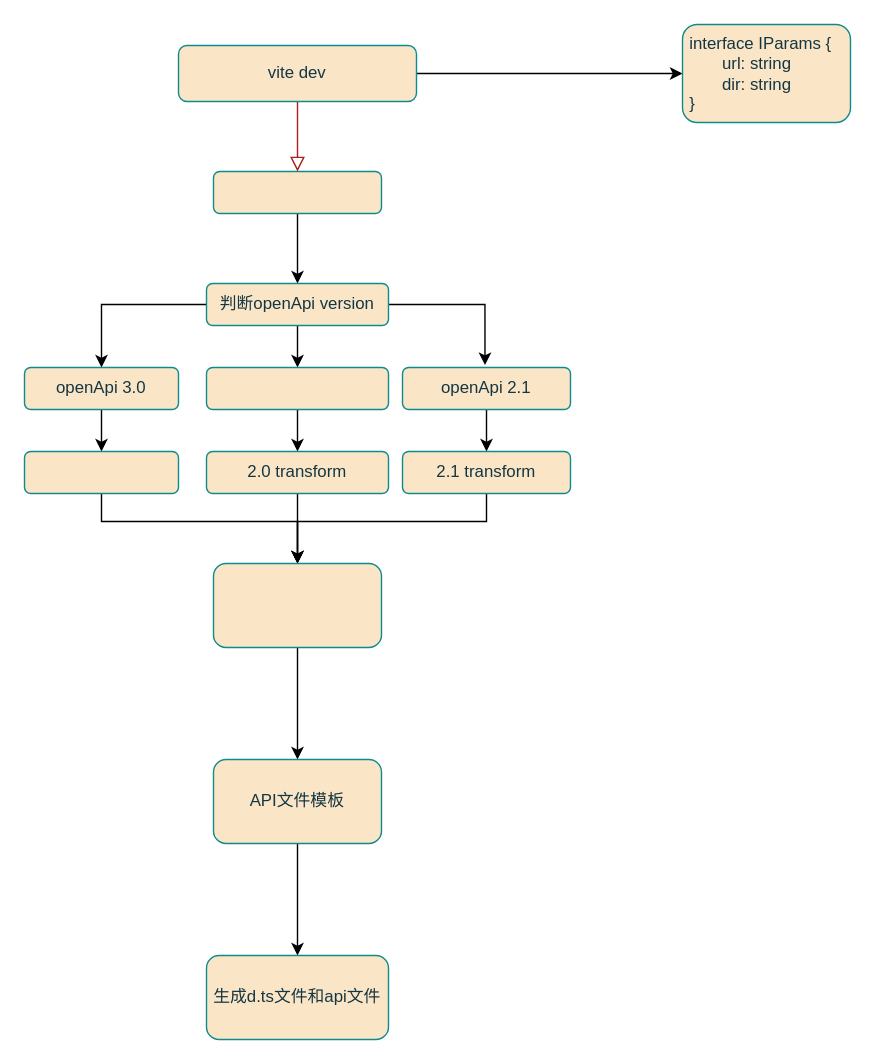
Some shapes in this 875 by 1064 pixel diagram are drawn without their labels. Here are the shapes that lost their labels. From the top down, the centre of each, then its label:
At point 297,192: "请求openApi.json".
At point 296,388: "openApi 2.0".
At point 100,471: "3.0 transform".
At point 297,605: "NodeTree".
